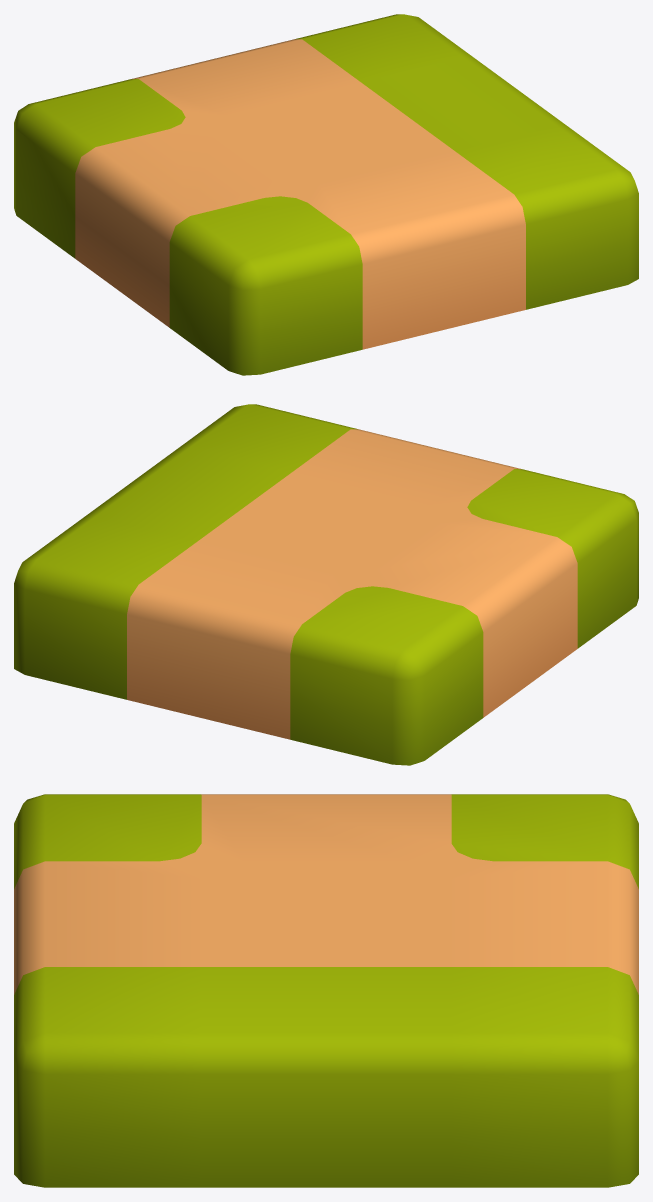
Rendered from 3D_Tile_Top_Path_03.fbx.
3 renders of one model, top to bottom at view 1: azimuth 30°, elevation 25°; view 2: azimuth 150°, elevation 25°; view 3: azimuth 270°, elevation 25°, orthographic. The views are drawn at different scales.
Parts seen in each view (by area): view 1: 3D_Tile_Top_Path_03; view 2: 3D_Tile_Top_Path_03; view 3: 3D_Tile_Top_Path_03.
Boxes of the visible parts, x1,y1,x2,y2 form: 3D_Tile_Top_Path_03: (14, 14, 638, 375); 3D_Tile_Top_Path_03: (14, 404, 638, 765); 3D_Tile_Top_Path_03: (14, 794, 638, 1187).
Bounding box in the file's own units: 200 × 50 × 200.
